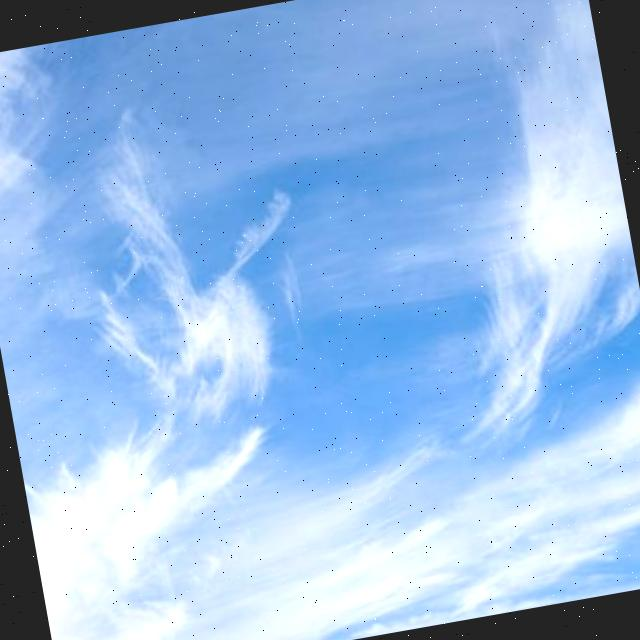Ci: (1, 1, 640, 628)
